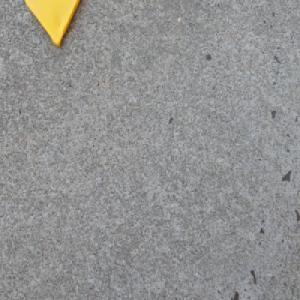PlasticPart: (22, 0, 80, 51)
